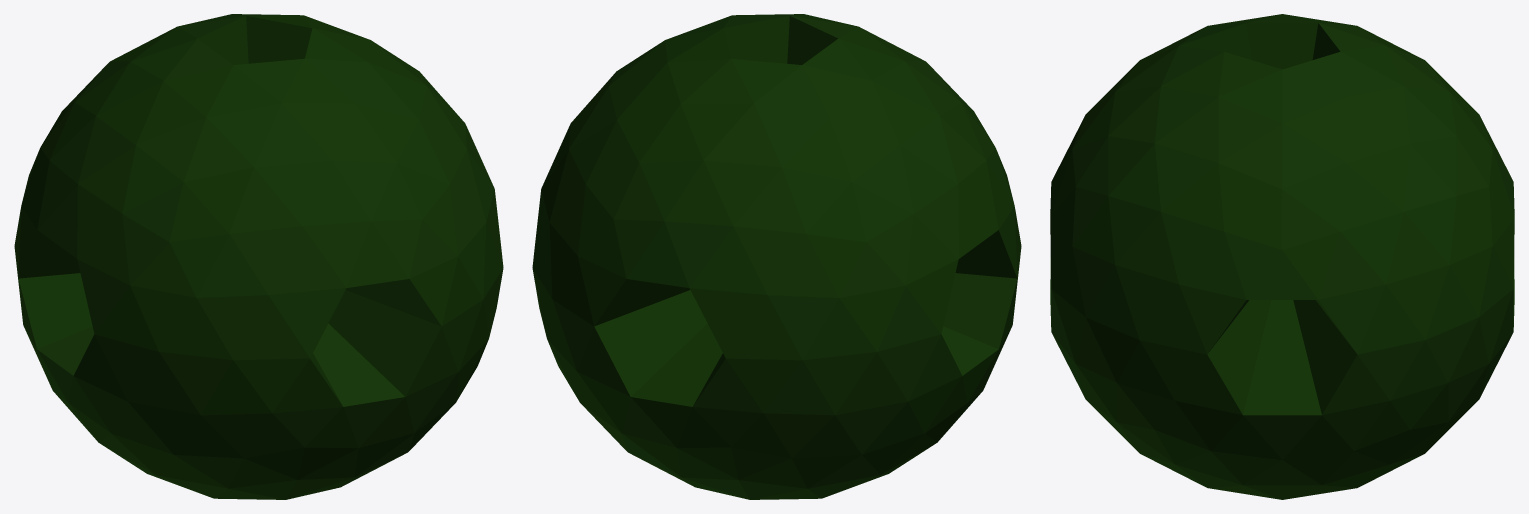
File: Mine.glb
The picture shows the model from 3 angles, left to right: view 1: azimuth 30°, elevation 25°; view 2: azimuth 150°, elevation 25°; view 3: azimuth 270°, elevation 25°; orthographic projection.
Visible parts, largest first — view 1: Icosphere; view 2: Icosphere; view 3: Icosphere.
Boxes of the visible parts, box(x1,y1,x2,y2) form: Icosphere: box(14, 14, 503, 499); Icosphere: box(532, 14, 1021, 499); Icosphere: box(1050, 14, 1514, 499).
Bounding box in the file's own units: 1.91 × 1.94 × 1.91.
